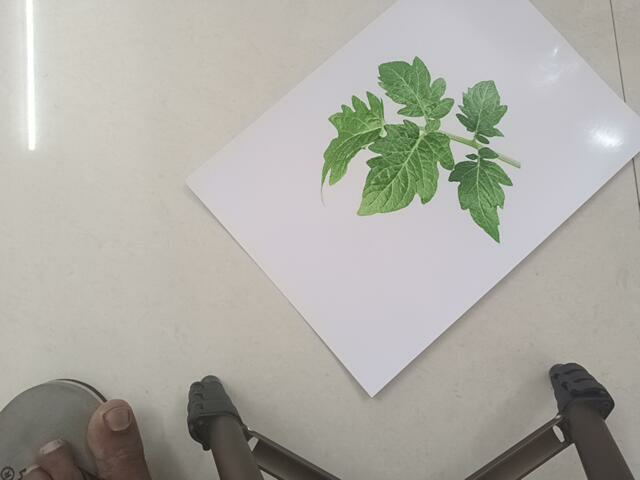Tomamto_Leaf_Healthy: (315, 51, 533, 253)
